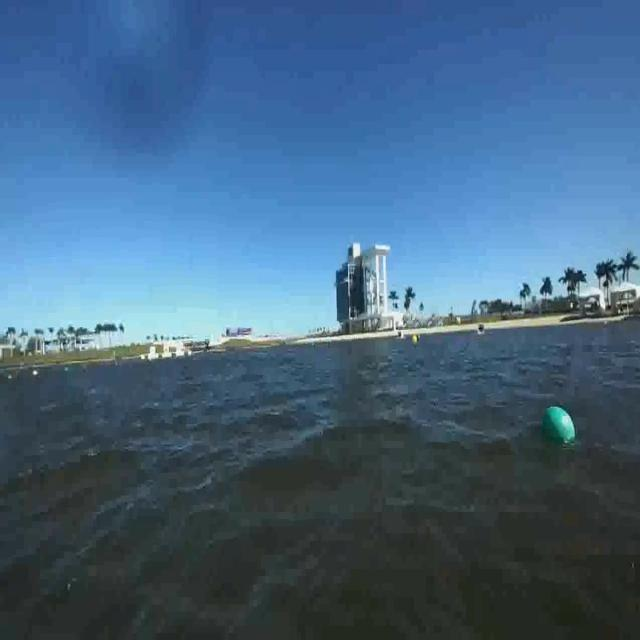green-buoy: (539, 405, 576, 446)
yellow-buoy: (412, 334, 420, 347)
